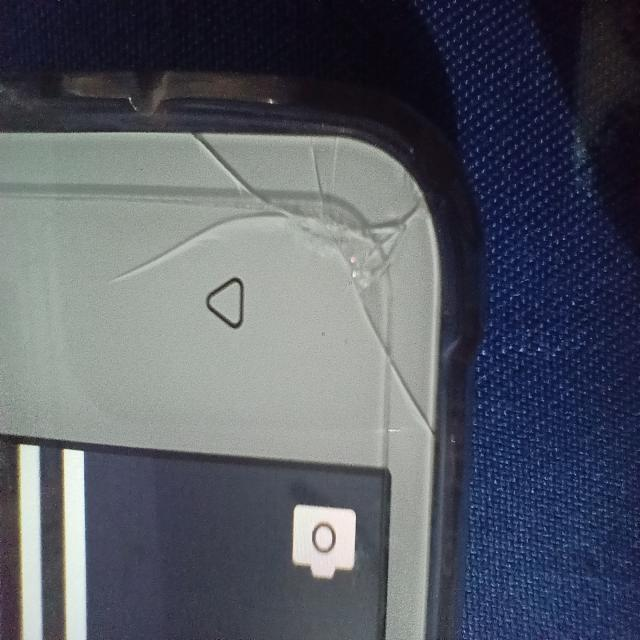Crack: (129, 124, 450, 460)
